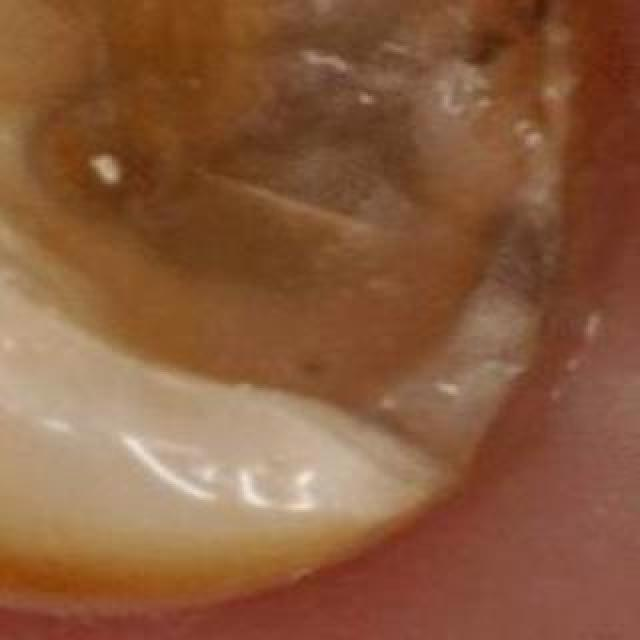cavities: (0, 0, 612, 606)
